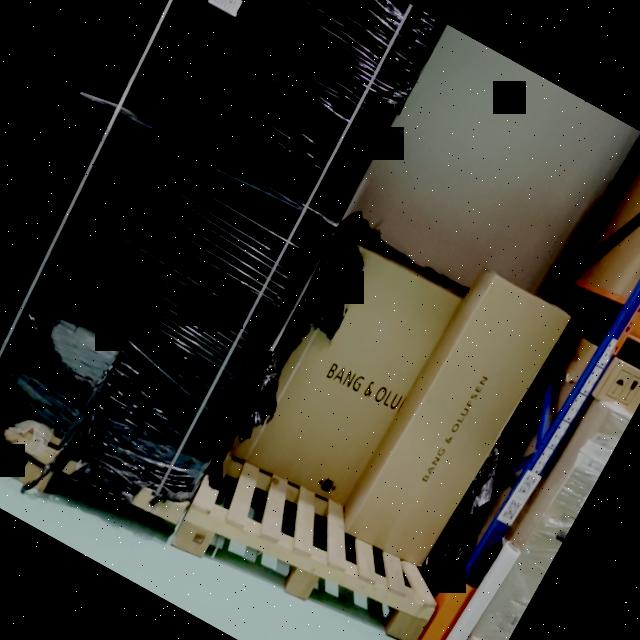box: (345, 273, 568, 569)
